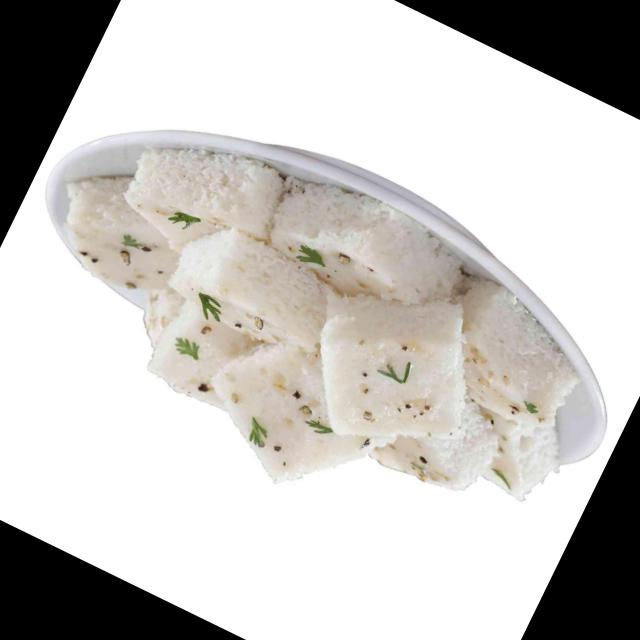dhokla: (4, 94, 615, 576)
